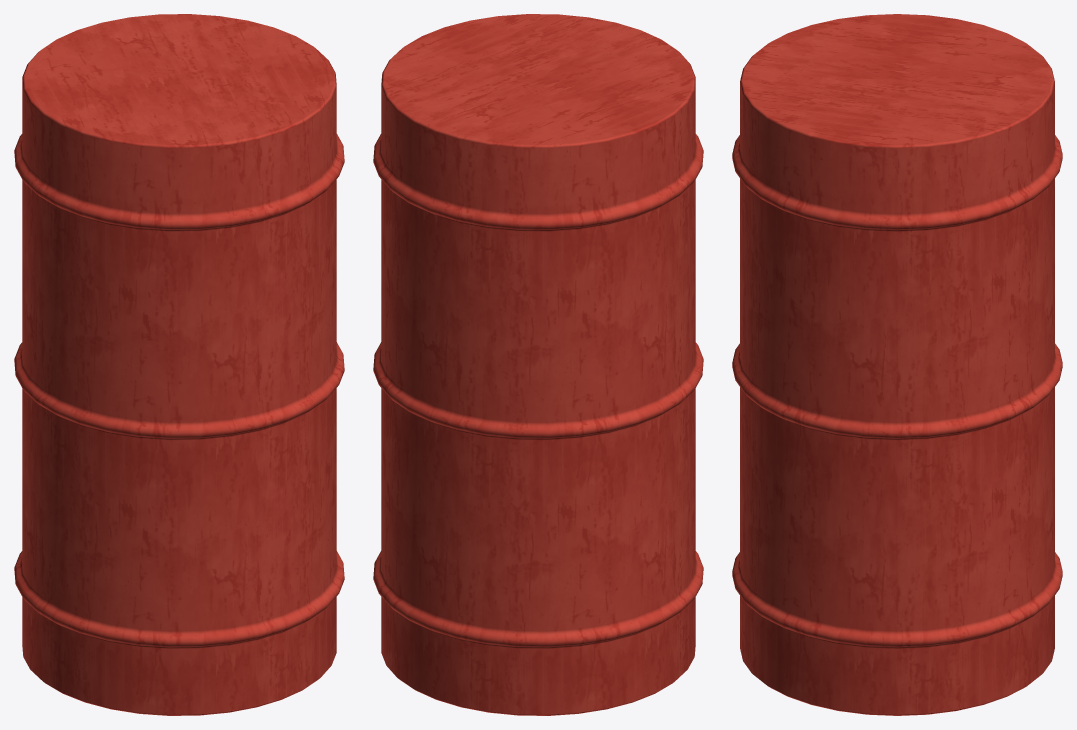
File: barrelpainted_002.fbx
3 renders of one model, left to right at view 1: azimuth 30°, elevation 25°; view 2: azimuth 150°, elevation 25°; view 3: azimuth 270°, elevation 25°, orthographic.
Visible parts, largest first — view 1: barrelpainted_002; view 2: barrelpainted_002; view 3: barrelpainted_002.
Part boxes in pixels (left/top/right/bottom): barrelpainted_002: left=14, top=14, right=344, bottom=715; barrelpainted_002: left=373, top=14, right=703, bottom=715; barrelpainted_002: left=732, top=14, right=1062, bottom=715.
Size of the model in its own units: 2518 by 2518 by 4800.
